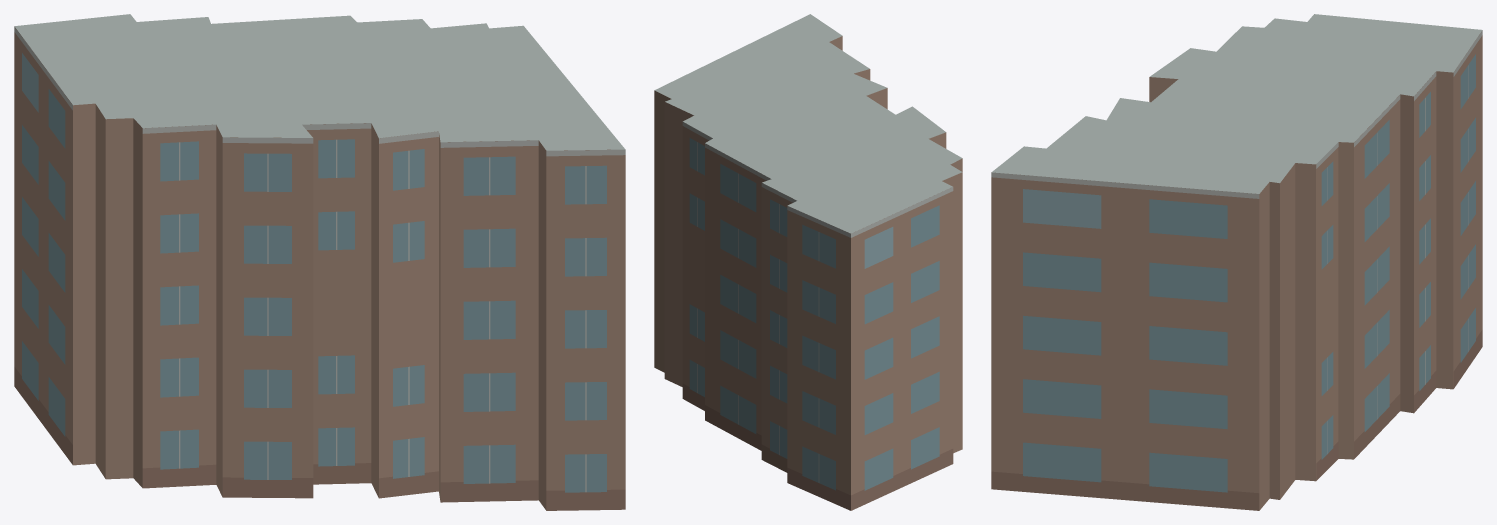
File: survey-upis-32491605.glb
3 views of the same model, side by side, from view 1: azimuth 30°, elevation 25°; view 2: azimuth 150°, elevation 25°; view 3: azimuth 270°, elevation 25° (orthographic). The views are drawn at different scales.
Parts seen in each view (by area): view 1: survey-upis-32491605.tmp; view 2: survey-upis-32491605.tmp; view 3: survey-upis-32491605.tmp.
Part boxes in pixels (x1,y1,x2,y2): survey-upis-32491605.tmp: (14, 14, 625, 510); survey-upis-32491605.tmp: (654, 14, 962, 510); survey-upis-32491605.tmp: (991, 14, 1482, 510).
Size of the model in its own units: 19.08 by 15.65 by 22.
